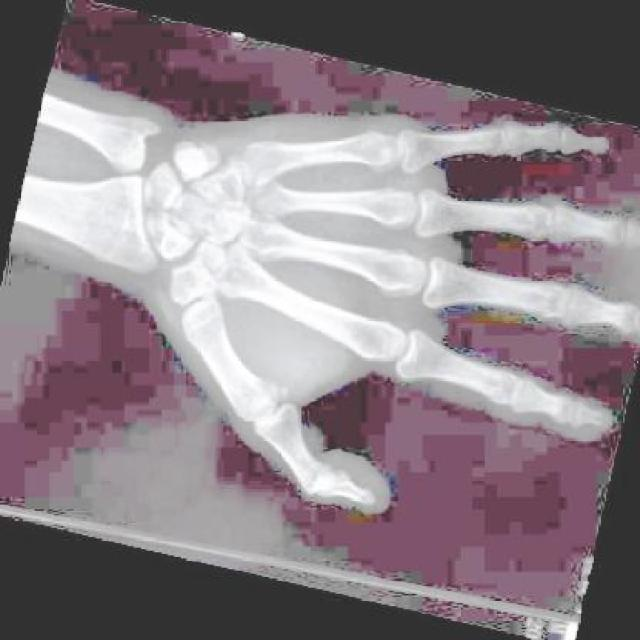Fracture: (222, 142, 259, 193)
